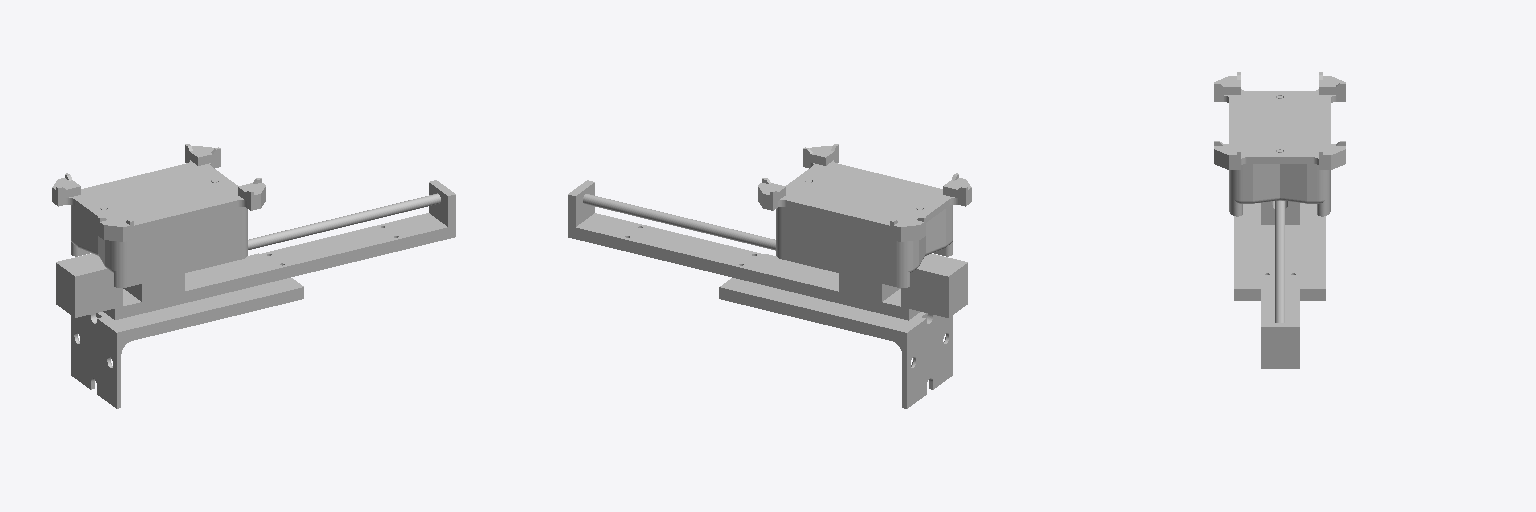
File: transfer_station.obj
The picture shows the model from 3 angles: view 1: azimuth 30°, elevation 25°; view 2: azimuth 150°, elevation 25°; view 3: azimuth 270°, elevation 25°; orthographic projection.
Parts seen in each view (by area): view 1: Assembly; view 2: Assembly; view 3: Assembly.
Boxes of the visible parts, x1=… form: Assembly: x1=52, y1=144, x2=455, y2=408; Assembly: x1=568, y1=144, x2=971, y2=408; Assembly: x1=1214, y1=72, x2=1345, y2=368.
Bounding box in the file's own units: 335 × 162 × 100.